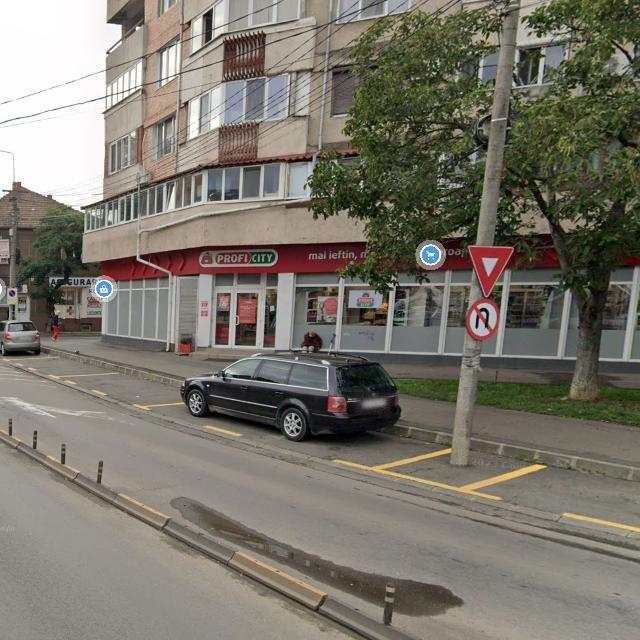prio_give_way: (468, 245, 514, 298)
